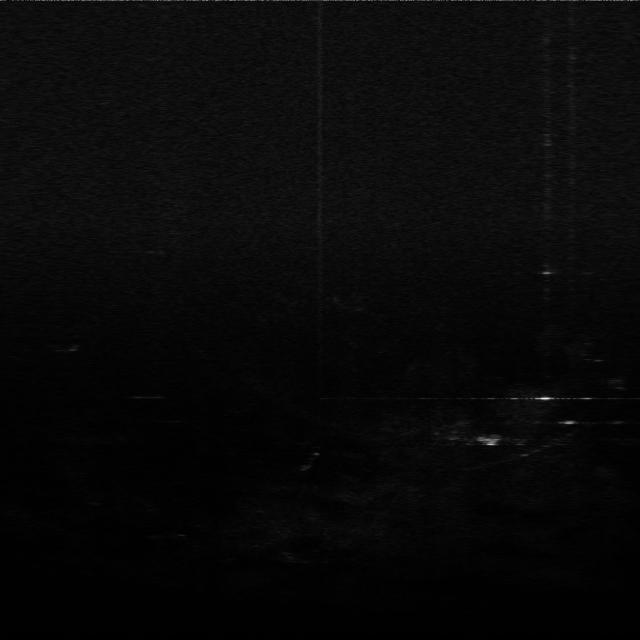rov: (474, 432, 504, 451)
